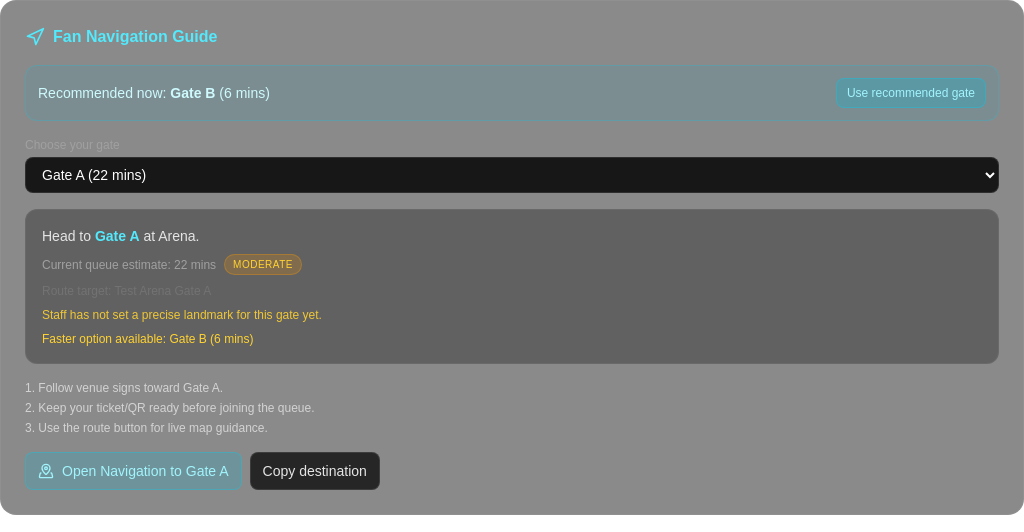
Test case: FanGateGuide › lets users switch to recommended gate quickly
The width and height of the screenshot is (1024, 532).
Step 1. Click the button "Use recommended gate" → (911, 93), box [836,78,986,108]
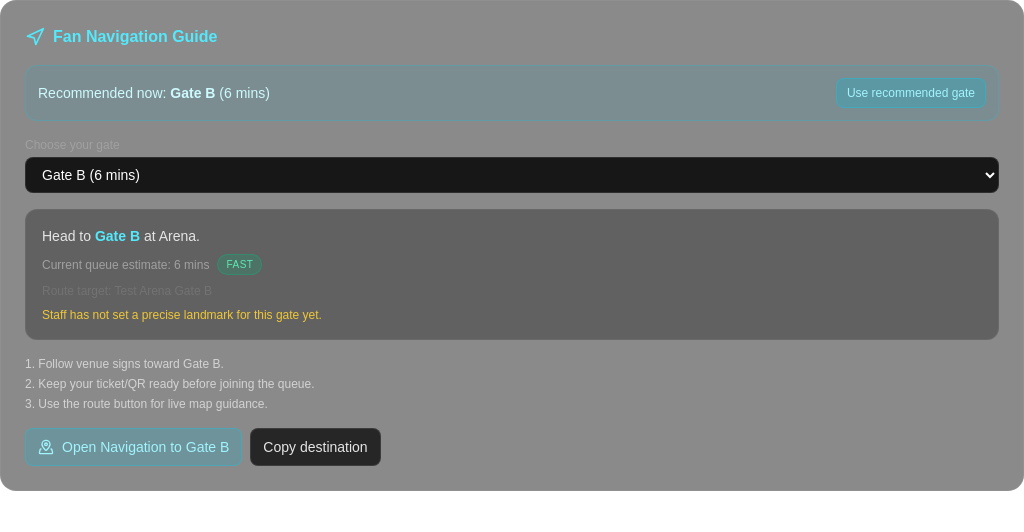
Expected: the link "Open Navigation to Gate B" is shown, [25,428,242,466]
